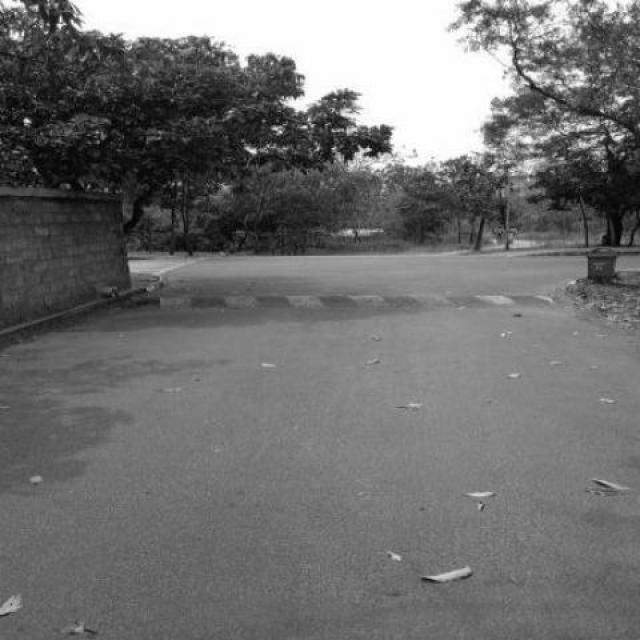Speed Bump: (121, 290, 588, 312)
